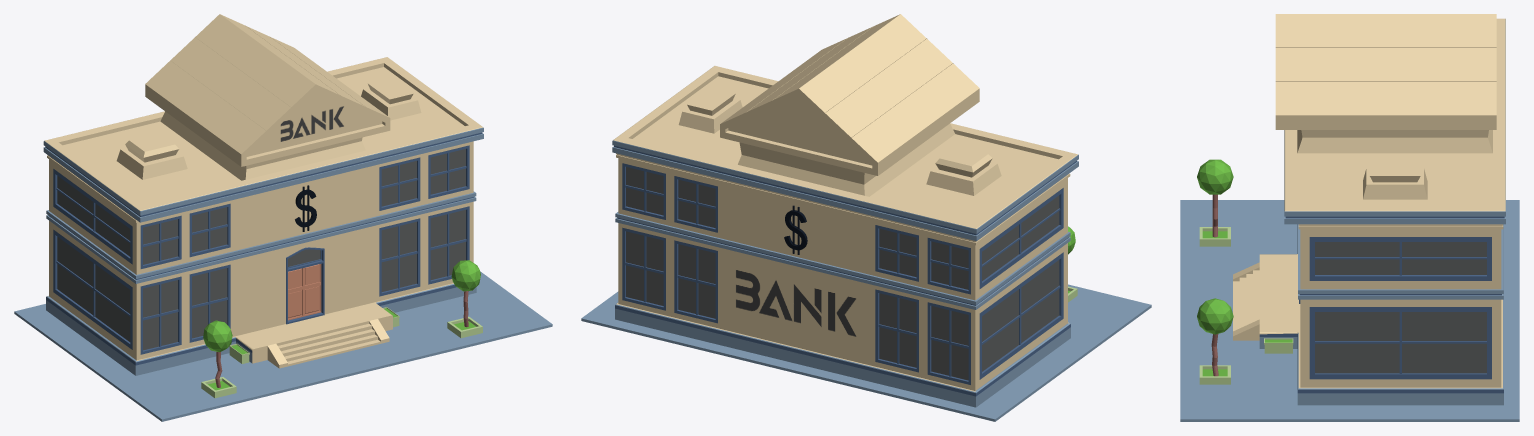
File: government-building-bank.fbx
3 views of the same model, side by side, from view 1: azimuth 30°, elevation 25°; view 2: azimuth 150°, elevation 25°; view 3: azimuth 270°, elevation 25° (orthographic). The views are drawn at different scales.
Visible parts, largest first — view 1: government-building-bank; view 2: government-building-bank; view 3: government-building-bank.
Boxes of the visible parts, x1=… form: government-building-bank: x1=14, y1=14, x2=552, y2=421; government-building-bank: x1=581, y1=14, x2=1151, y2=421; government-building-bank: x1=1180, y1=14, x2=1519, y2=421.
Size of the model in its own units: 19.53 by 12.4 by 12.79.
